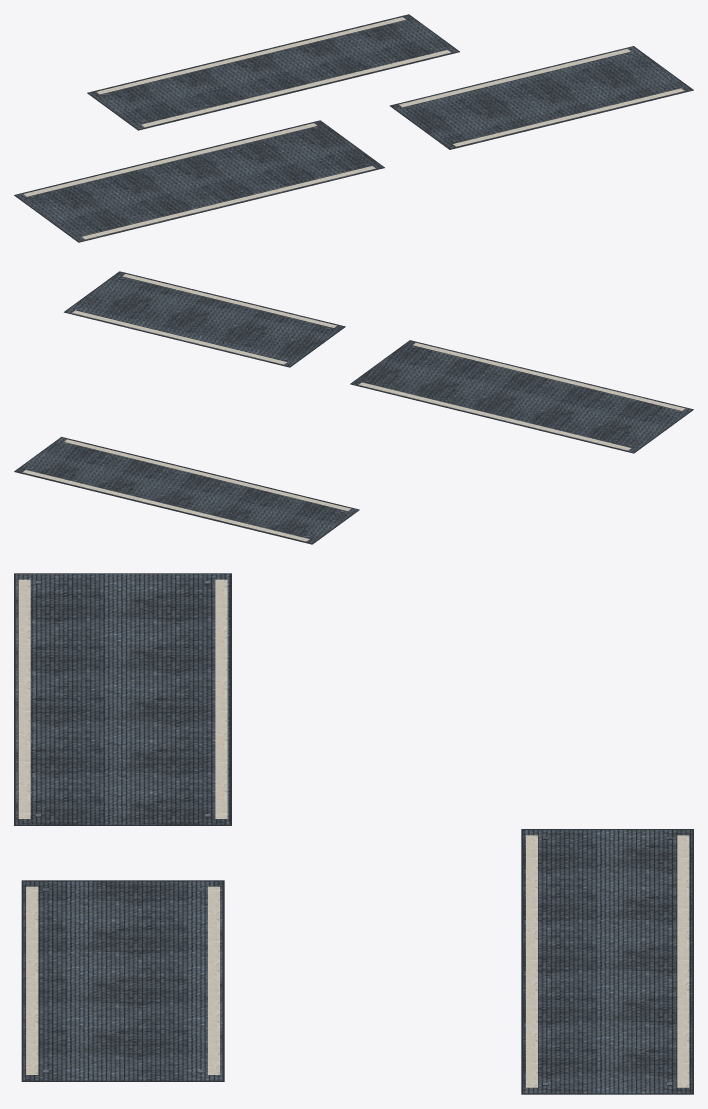
Rendered from pv-roof.glb.
3 views of the same model, one above another, from view 1: azimuth 30°, elevation 25°; view 2: azimuth 150°, elevation 25°; view 3: azimuth 270°, elevation 25° (orthographic). The views are drawn at different scales.
Visible parts, largest first — view 1: pv-roof_membrane_A, pv-roof_membrane_lab, pv-roof_membrane_B, pv-roof_walkway_lab_N, pv-roof_walkway_lab_S, pv-roof_walkway_A_N, pv-roof_walkway_A_S, pv-roof_walkway_B_N, pv-roof_walkway_B_S, pv-roof_edge_lab_S, pv-roof_edge_lab_N, pv-roof_edge_A_N (+1 smaller); view 2: pv-roof_membrane_A, pv-roof_membrane_lab, pv-roof_membrane_B, pv-roof_walkway_lab_N, pv-roof_walkway_lab_S, pv-roof_walkway_A_S, pv-roof_walkway_A_N, pv-roof_walkway_B_N, pv-roof_walkway_B_S; view 3: pv-roof_membrane_A, pv-roof_membrane_lab, pv-roof_membrane_B, pv-roof_walkway_lab_N, pv-roof_walkway_A_N, pv-roof_walkway_A_S, pv-roof_walkway_lab_S, pv-roof_walkway_B_S, pv-roof_walkway_B_N, pv-roof_edge_lab_S.
Part boxes in pixels (x1,y1,x2,y2): pv-roof_membrane_A: (14, 121, 384, 242); pv-roof_membrane_lab: (87, 15, 459, 130); pv-roof_membrane_B: (390, 46, 693, 149); pv-roof_walkway_lab_N: (96, 17, 405, 94); pv-roof_walkway_lab_S: (141, 50, 450, 127); pv-roof_walkway_A_N: (23, 123, 317, 196); pv-roof_walkway_A_S: (82, 166, 375, 239); pv-roof_walkway_B_N: (399, 49, 630, 107); pv-roof_walkway_B_S: (453, 88, 684, 146); pv-roof_edge_lab_S: (138, 51, 459, 130); pv-roof_edge_lab_N: (87, 14, 408, 92); pv-roof_edge_A_N: (14, 120, 320, 195); pv-roof_membrane_A: (350, 341, 692, 453); pv-roof_membrane_lab: (14, 437, 359, 544); pv-roof_membrane_B: (64, 272, 344, 367); pv-roof_walkway_lab_N: (22, 470, 309, 541); pv-roof_walkway_lab_S: (64, 439, 350, 510); pv-roof_walkway_A_S: (413, 343, 685, 410); pv-roof_walkway_A_N: (359, 382, 630, 450); pv-roof_walkway_B_N: (72, 310, 286, 364); pv-roof_walkway_B_S: (122, 274, 336, 327); pv-roof_membrane_A: (14, 574, 231, 825); pv-roof_membrane_lab: (521, 830, 693, 1094); pv-roof_membrane_B: (22, 881, 224, 1081); pv-roof_walkway_lab_N: (677, 835, 689, 1087); pv-roof_walkway_A_N: (215, 579, 227, 818); pv-roof_walkway_A_S: (18, 579, 30, 818); pv-roof_walkway_lab_S: (526, 835, 537, 1087); pv-roof_walkway_B_S: (26, 886, 38, 1074); pv-roof_walkway_B_N: (208, 886, 219, 1074); pv-roof_edge_lab_S: (521, 829, 523, 1094).
Size of the model in its own units: 79.4 by 6.16 by 44.9.
5 materials, 2 textured.
